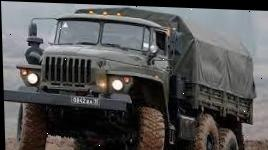truck: (4, 0, 262, 150)
